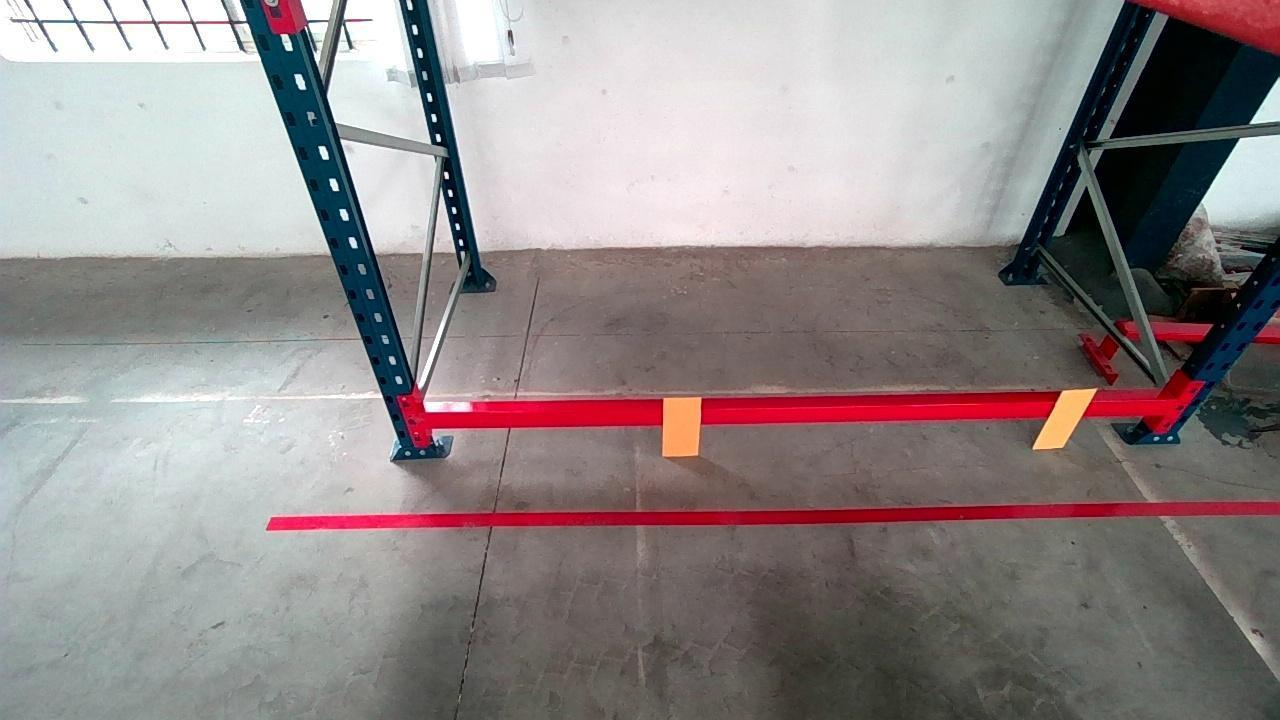h_rack: (425, 387, 1158, 435)
orange_strip: (1034, 388, 1098, 448), (663, 395, 702, 455)
red_line: (276, 492, 1272, 537)
